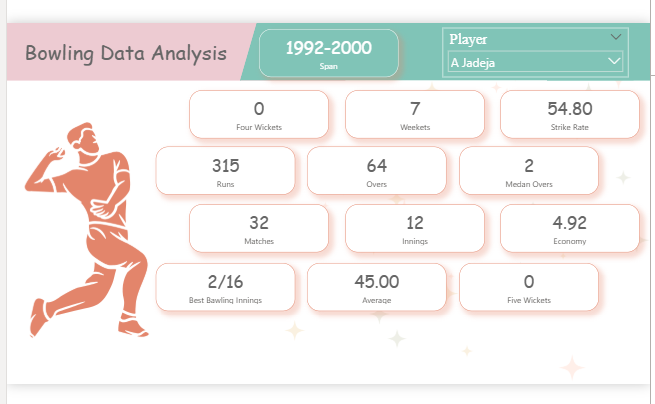

This screenshot's page, from the dashboard's own definition file:
{"tool":"powerbi","page":{"name":"Bawling","canvas":[1280,720],"ordinal":1},"visuals":[{"type":"shape","box":[0,0,673.6,114.7],"z":0},{"type":"shape","box":[463.4,0,817,114.7],"z":1000},{"type":"shape","box":[1074.6,0,205.4,114.7],"z":2000},{"type":"slicer","fields":{"Values":["Bowling.Player"]},"box":[867.1,9.6,370.3,97.9],"z":3000},{"type":"card","fields":{"Values":["Bowling.Span"]},"box":[501.7,11.9,277.1,95.6],"z":4000},{"type":"card","fields":{"Values":["Bowling.Wkts"]},"box":[673.6,133.8,277.1,95.6],"z":5000},{"type":"card","fields":{"Values":["Bowling.SR"]},"box":[981.8,133.8,277.1,95.6],"z":6000},{"type":"card","fields":{"Values":["Bowling.Runs"]},"box":[296.2,246,277.1,95.6],"z":7000},{"type":"card","fields":{"Values":["Bowling.Overs"]},"box":[598.4,246,277.1,95.6],"z":8000},{"type":"card","fields":{"Values":["Bowling.Mdns"]},"box":[900.6,246,277.1,95.6],"z":9000},{"type":"card","fields":{"Values":["Bowling.Mat"]},"box":[363.1,360.7,277.1,95.6],"z":10000},{"type":"card","fields":{"Values":["Bowling.Inns"]},"box":[672.5,360.7,277.1,95.6],"z":11000},{"type":"card","fields":{"Values":["Bowling.Econ"]},"box":[981.8,360.7,277.1,95.6],"z":12000},{"type":"card","fields":{"Values":["Bowling.BBI"]},"box":[296.2,477.8,277.1,95.6],"z":13000},{"type":"card","fields":{"Values":["Bowling.Ave"]},"box":[598.4,477.8,277.1,95.6],"z":14000},{"type":"card","fields":{"Values":["Bowling.5"]},"box":[900.6,477.8,277.1,95.6],"z":15000},{"type":"card","fields":{"Values":["Bowling.4"]},"box":[363.1,133.8,277.1,95.6],"z":16000}]}

Visuals, with their boxes on the page's 1280x720 design canvas (x1, y1, x2, y2). These are canvas units, not pixel positions in the 655x404 screenshot, which may show the page scaled, cropped or inside an application window:
shape: pyautogui.locateOnScreen(0, 0, 674, 115)
shape: pyautogui.locateOnScreen(463, 0, 1280, 115)
shape: pyautogui.locateOnScreen(1075, 0, 1280, 115)
slicer - Bowling.Player: pyautogui.locateOnScreen(867, 10, 1237, 108)
card - Bowling.Span: pyautogui.locateOnScreen(502, 12, 779, 108)
card - Bowling.Wkts: pyautogui.locateOnScreen(674, 134, 951, 229)
card - Bowling.SR: pyautogui.locateOnScreen(982, 134, 1259, 229)
card - Bowling.Runs: pyautogui.locateOnScreen(296, 246, 573, 342)
card - Bowling.Overs: pyautogui.locateOnScreen(598, 246, 876, 342)
card - Bowling.Mdns: pyautogui.locateOnScreen(901, 246, 1178, 342)
card - Bowling.Mat: pyautogui.locateOnScreen(363, 361, 640, 456)
card - Bowling.Inns: pyautogui.locateOnScreen(672, 361, 950, 456)
card - Bowling.Econ: pyautogui.locateOnScreen(982, 361, 1259, 456)
card - Bowling.BBI: pyautogui.locateOnScreen(296, 478, 573, 573)
card - Bowling.Ave: pyautogui.locateOnScreen(598, 478, 876, 573)
card - Bowling.5: pyautogui.locateOnScreen(901, 478, 1178, 573)
card - Bowling.4: pyautogui.locateOnScreen(363, 134, 640, 229)
